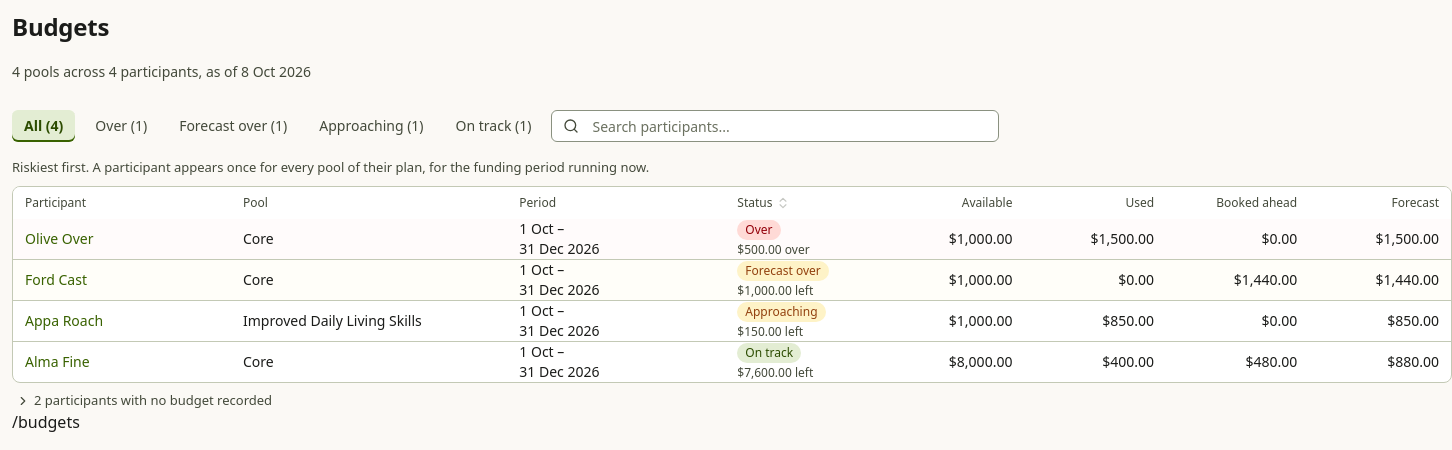
Scenario: BudgetsPage: searching for a participant › combines with the status, and says so plainly when nothing matches, with a way back
Click the radio button labelled "Over (1)" at (121, 126), box [83, 110, 159, 142]
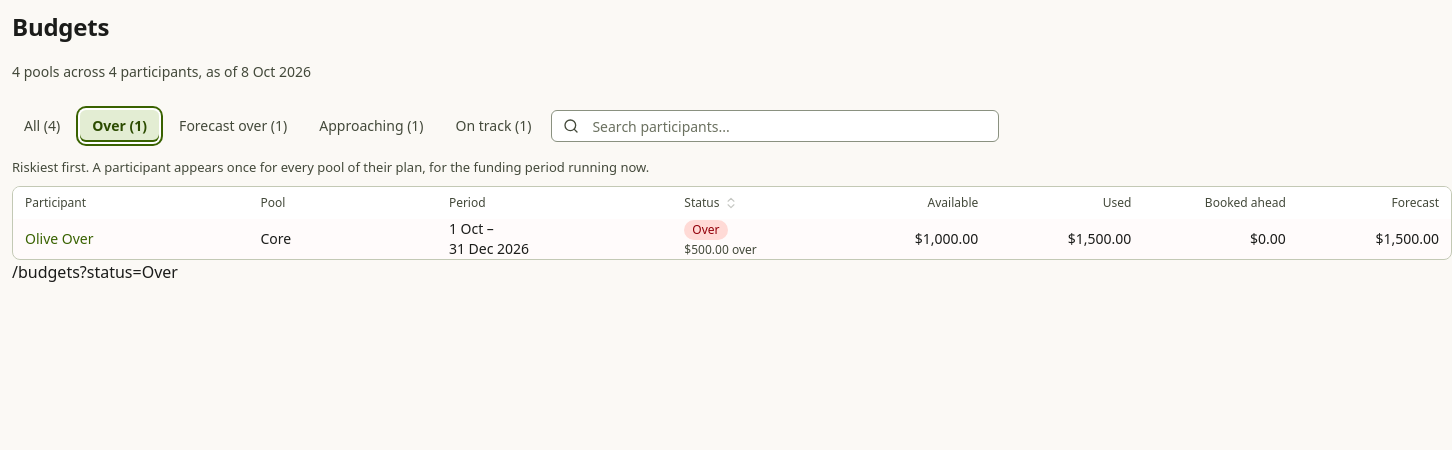
Type "ford" into the field labelled "Search participants" at (775, 126), box [551, 110, 999, 142]
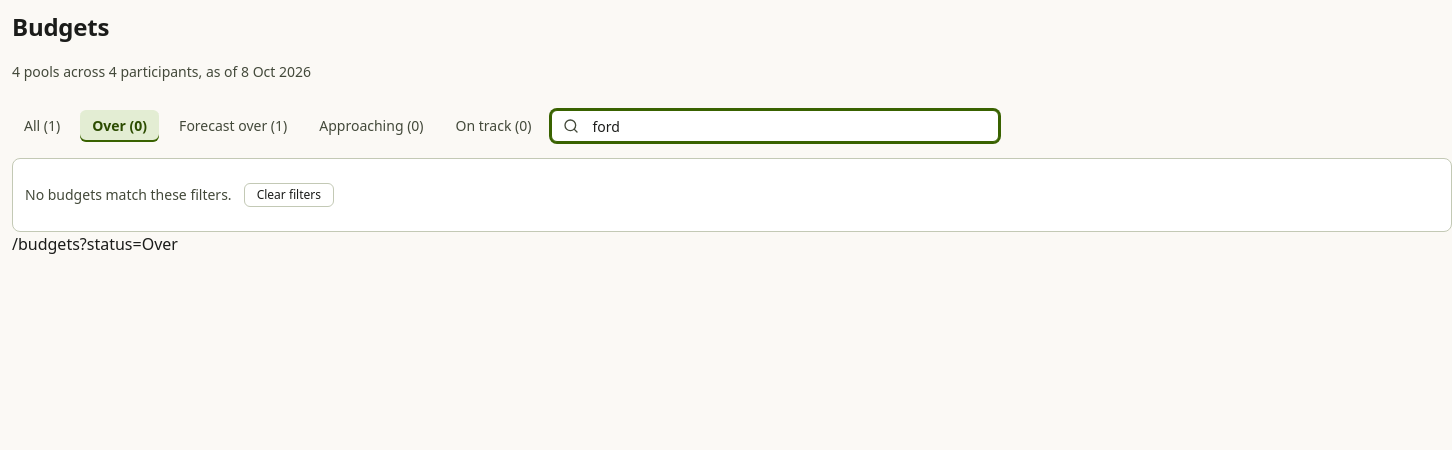
Expected: the text "No budgets match these filters." is shown, [25, 185, 232, 205]
Expected: the table is gone
Click the button "Clear filters" at (289, 195), box [244, 183, 334, 207]
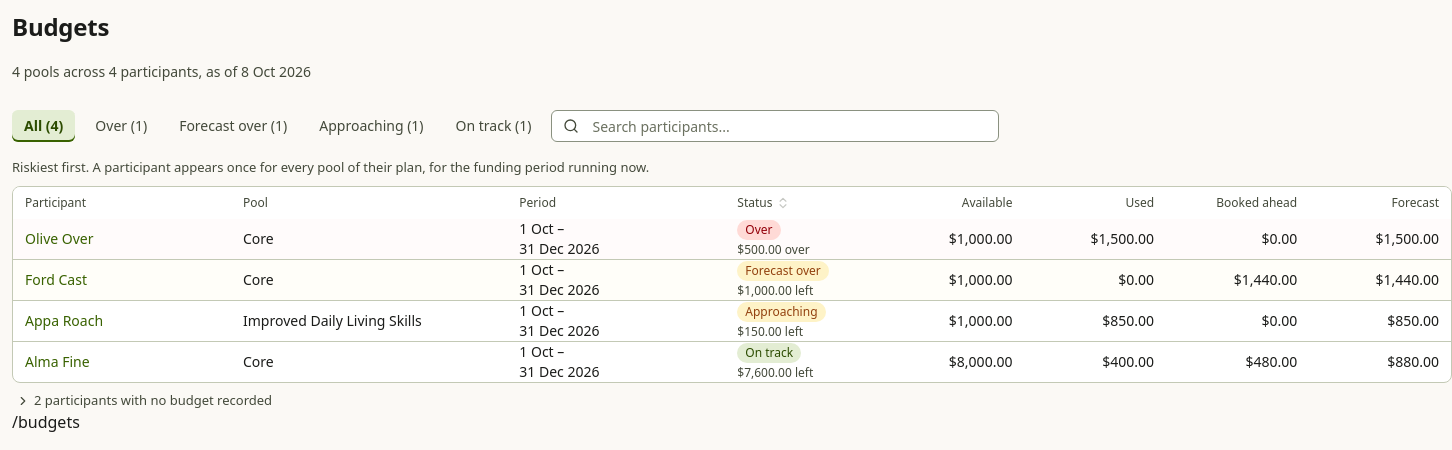
Expected: the number of links is 4, [25, 229, 94, 248]; [25, 270, 87, 289]; [25, 311, 103, 330]; [25, 352, 90, 371]
Expected: the field labelled "Search participants" is empty, [552, 110, 1000, 142]
Expected: the text with test id "where" reads "/budgets", [12, 411, 80, 433]
